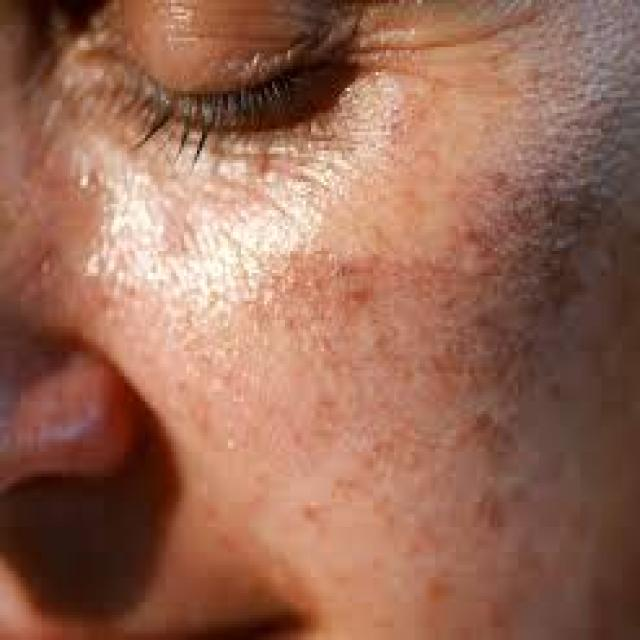pigmentation: (435, 55, 626, 408)
